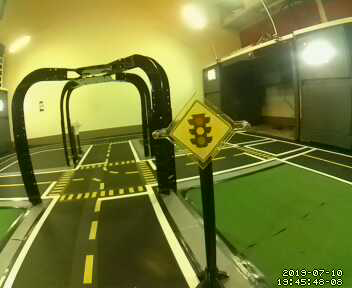Traffic light sign: (170, 99, 232, 165)
